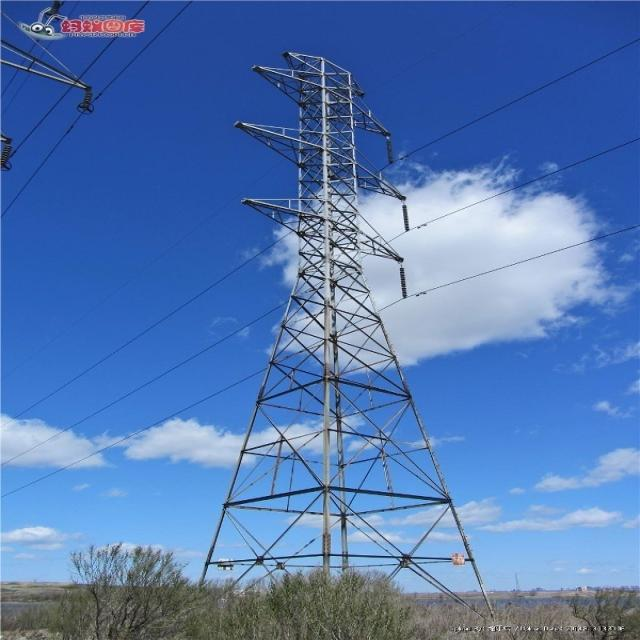non-critical vegetation: (206, 36, 484, 586)
